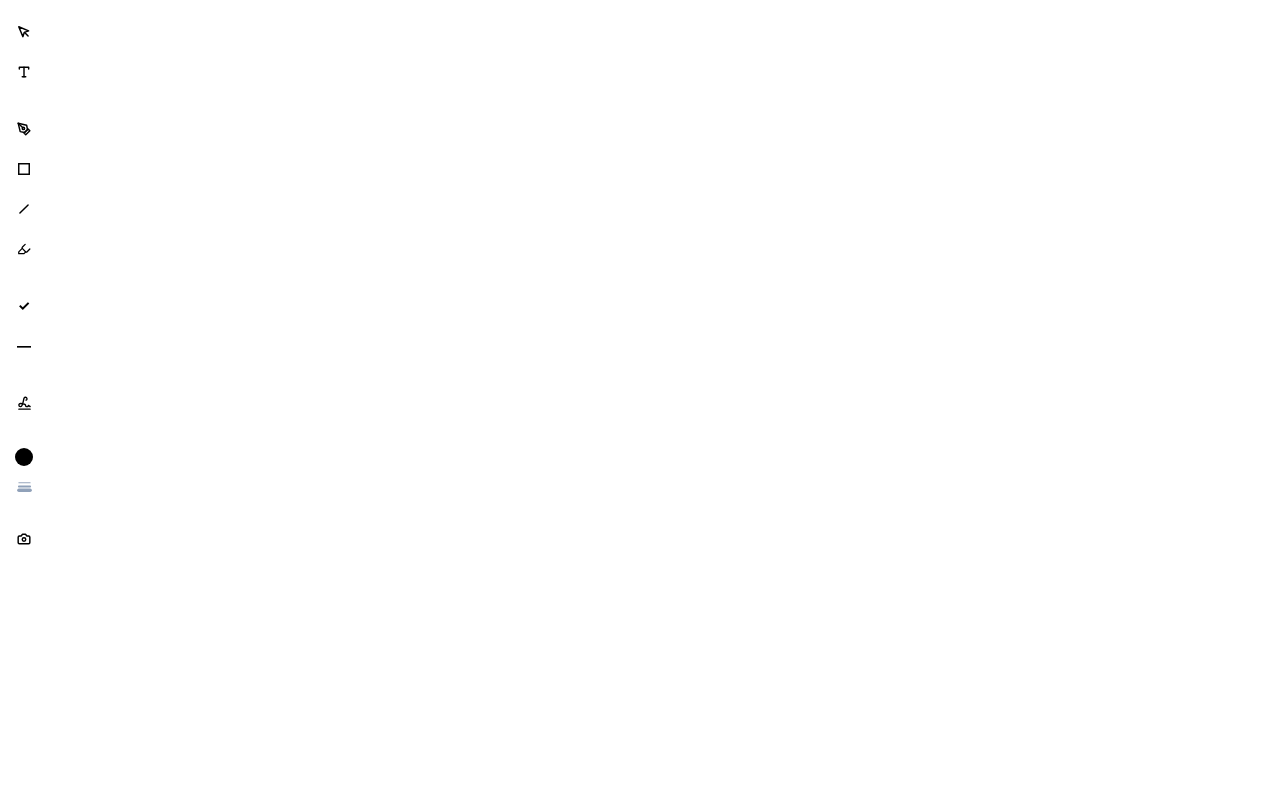
Test: sign-off name fields › requires first and last name
Click the button titled "Signatures & Initials": (24, 403) [8,387,40,419]
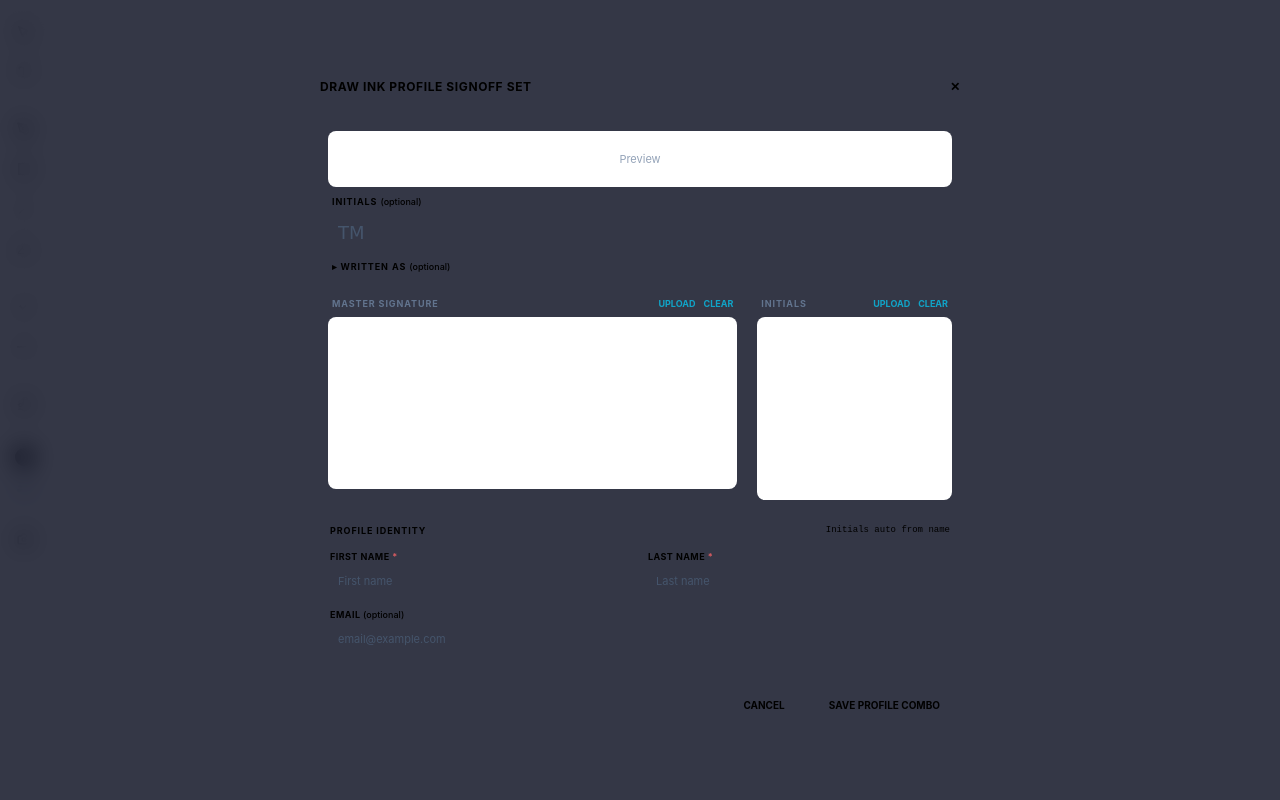
Check: the field with placeholder "First name" is shown
In the field with placeholder "First name": (481, 581) [328,567,634,596], type "Terry"
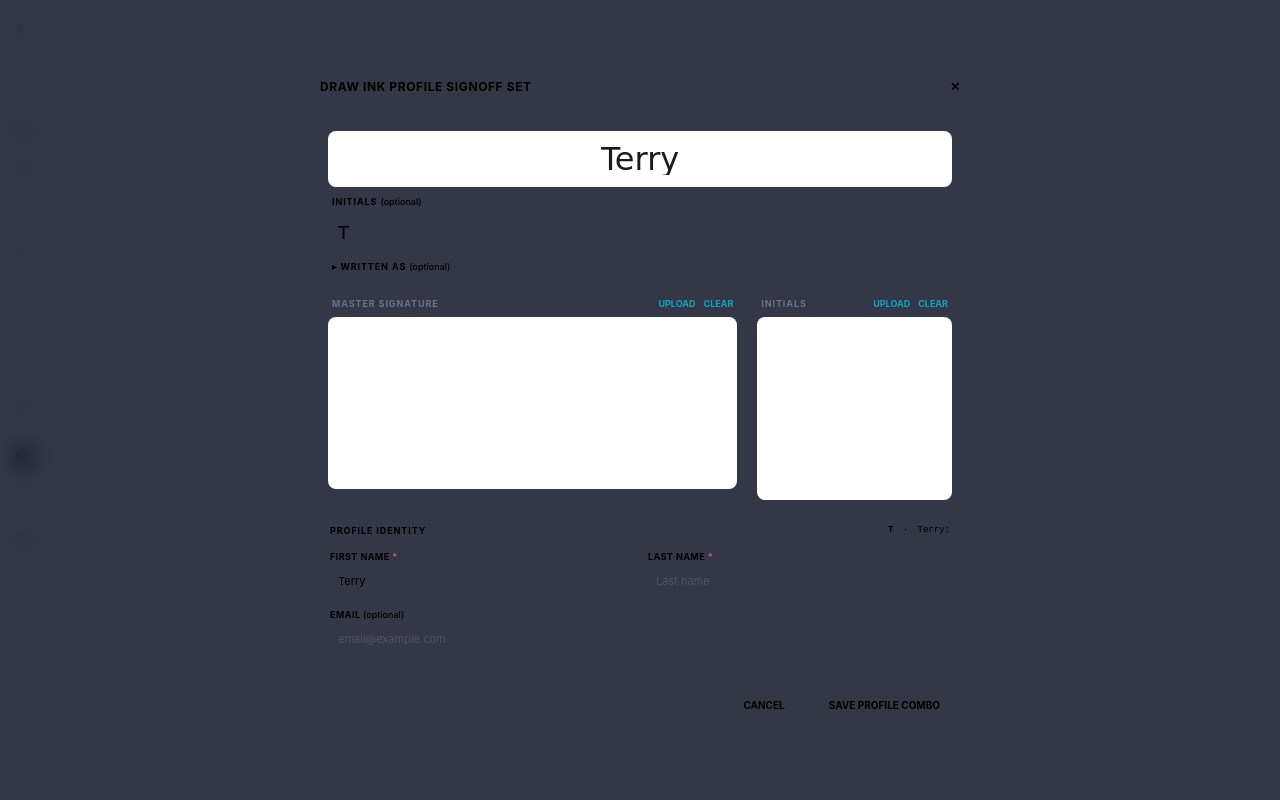
Click the button "Save Profile Combo": (884, 705) [809,690,960,721]
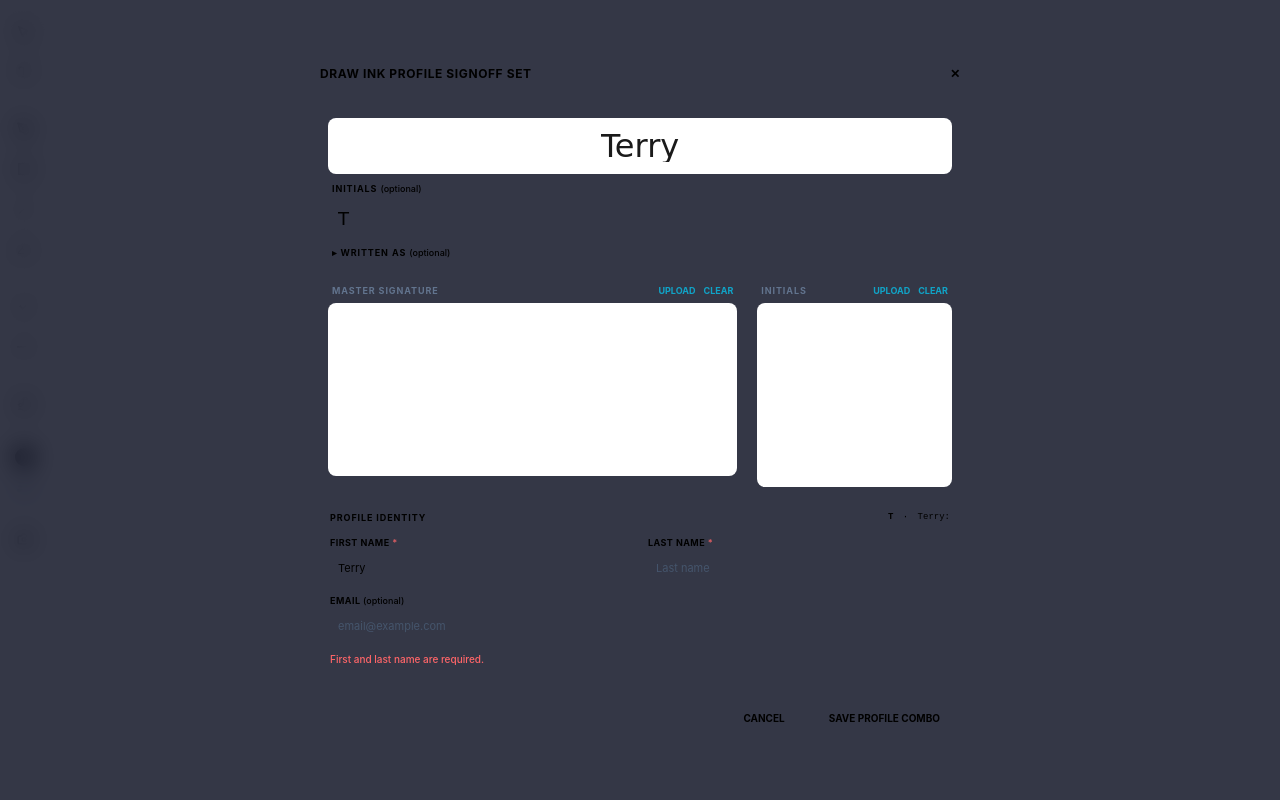
Check: the text "First and last name are required." is shown, box [330,653,484,665]
